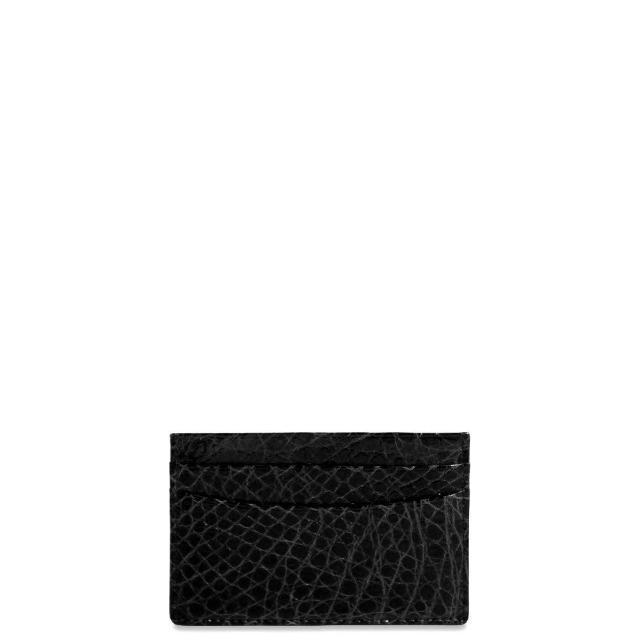wallet: (164, 425, 470, 627)
